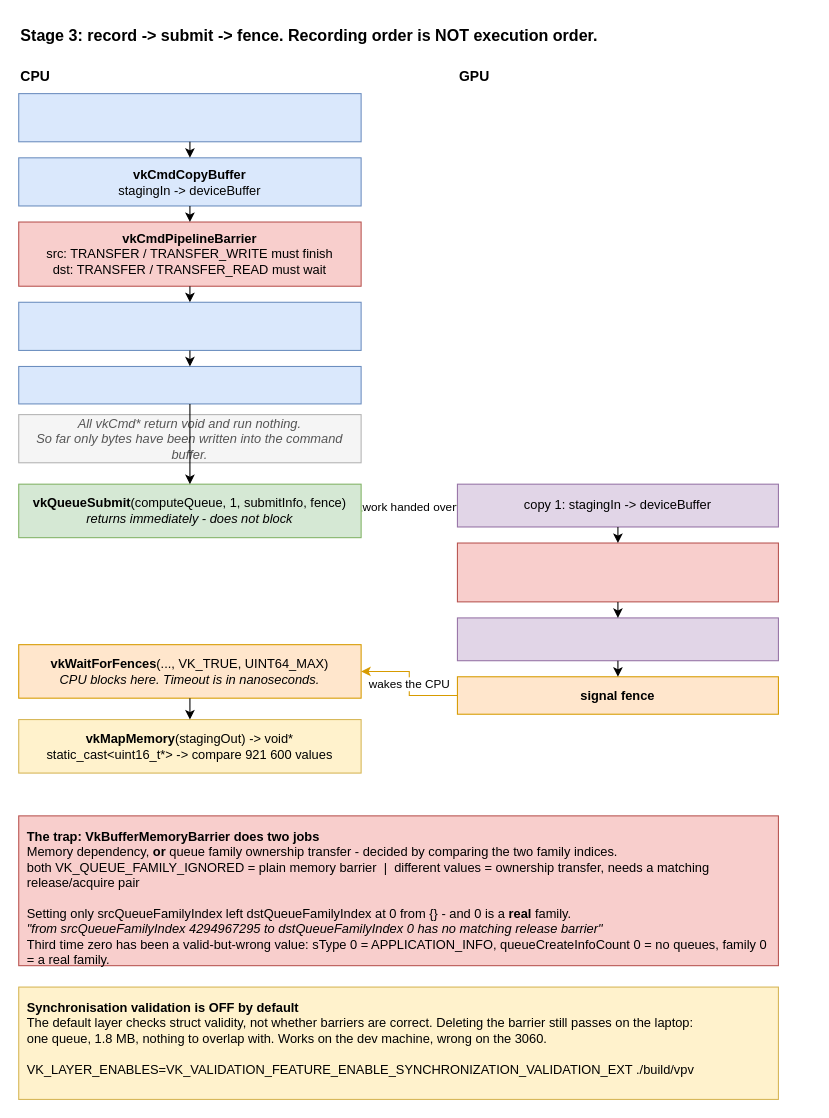
Image size: 829x1118. Some labels were removed from this diagram. Each missing label, with the centre of its shape:
barrier honoured without it, copy 2 may start early and read stale bytes: pixel 617 572
copy 2: deviceBuffer -> stagingOut: pixel 617 639
vkBeginCommandBuffer ONE_TIME_SUBMIT: pixel 189 117
vkCmdCopyBuffer deviceBuffer -> stagingOut: pixel 189 325
vkEndCommandBuffer: pixel 189 384
